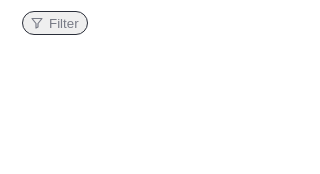
Test: Should apply a saved filter or start a new one from its menu
Later steps or results of the test are not shown.
Click the button "Filter": x=55, y=23 x1=22 y1=11 x2=88 y2=35
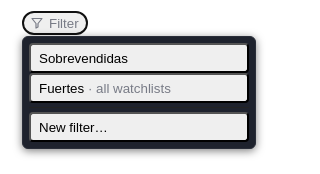
Expected: the menu item "Fuertes · all watchlists" is shown, x1=29 y1=73 x2=249 y2=103
